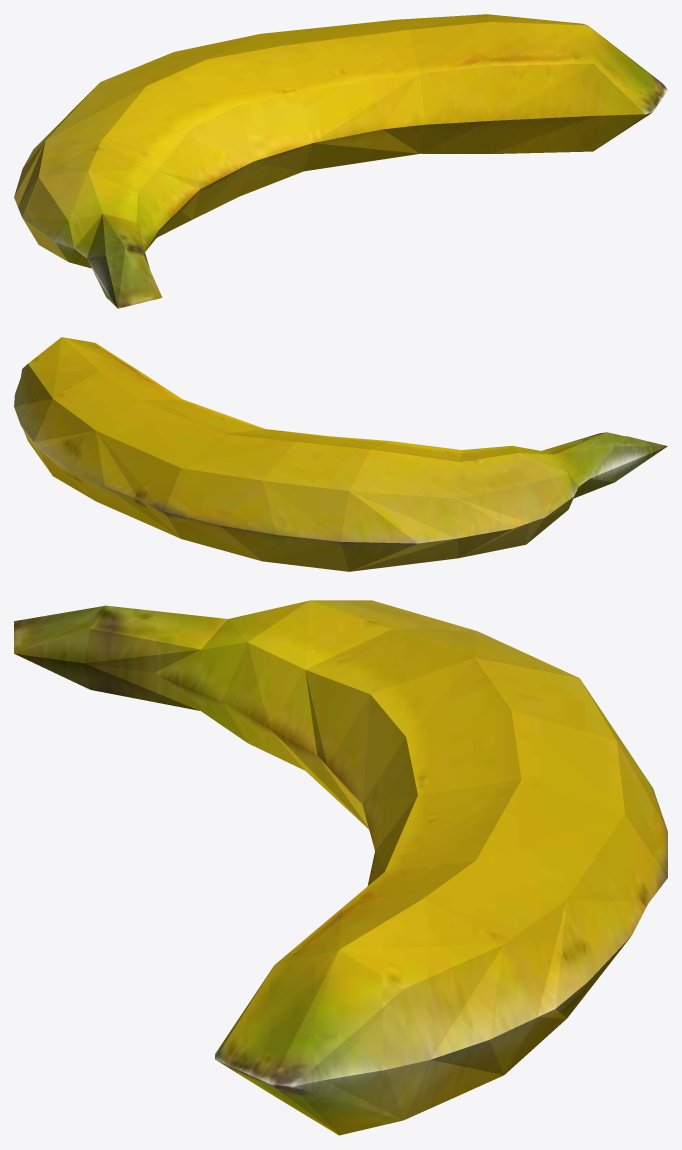
Rendered from banana.dae.
The picture shows the model from 3 angles, top to bottom: view 1: azimuth 30°, elevation 25°; view 2: azimuth 150°, elevation 25°; view 3: azimuth 270°, elevation 25°; orthographic projection. The views are drawn at different scales.
Visible parts, largest first — view 1: node; view 2: node; view 3: node.
Boxes of the visible parts, <box> form: node: <box>14,14,667,308</box>; node: <box>14,337,667,571</box>; node: <box>14,600,667,1135</box>.
Bounding box in the file's own units: 176 × 34 × 104.
1 material, 1 textured.
